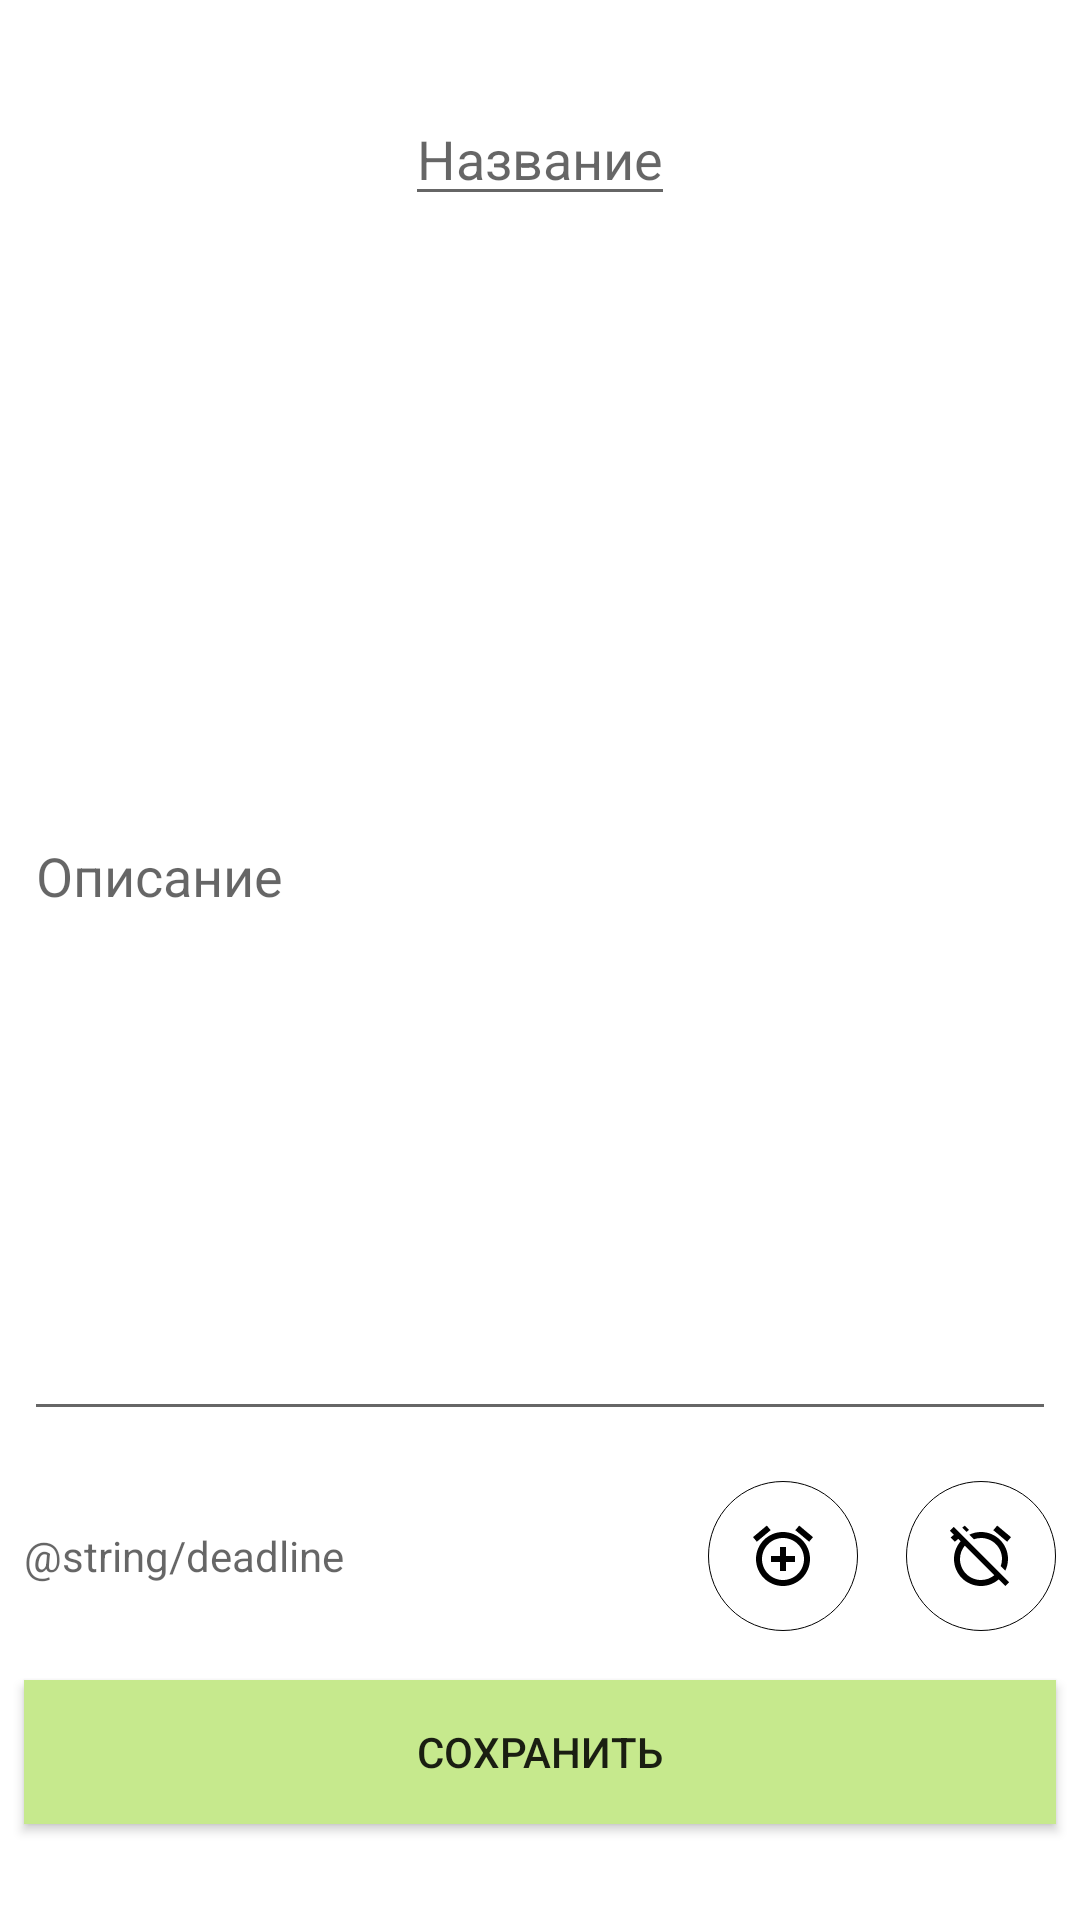

Screen size 1080 x 1920. Icon name, then its center in pixels as [x,y]:
add dead: [783,1556]
delete dead: [981,1556]
